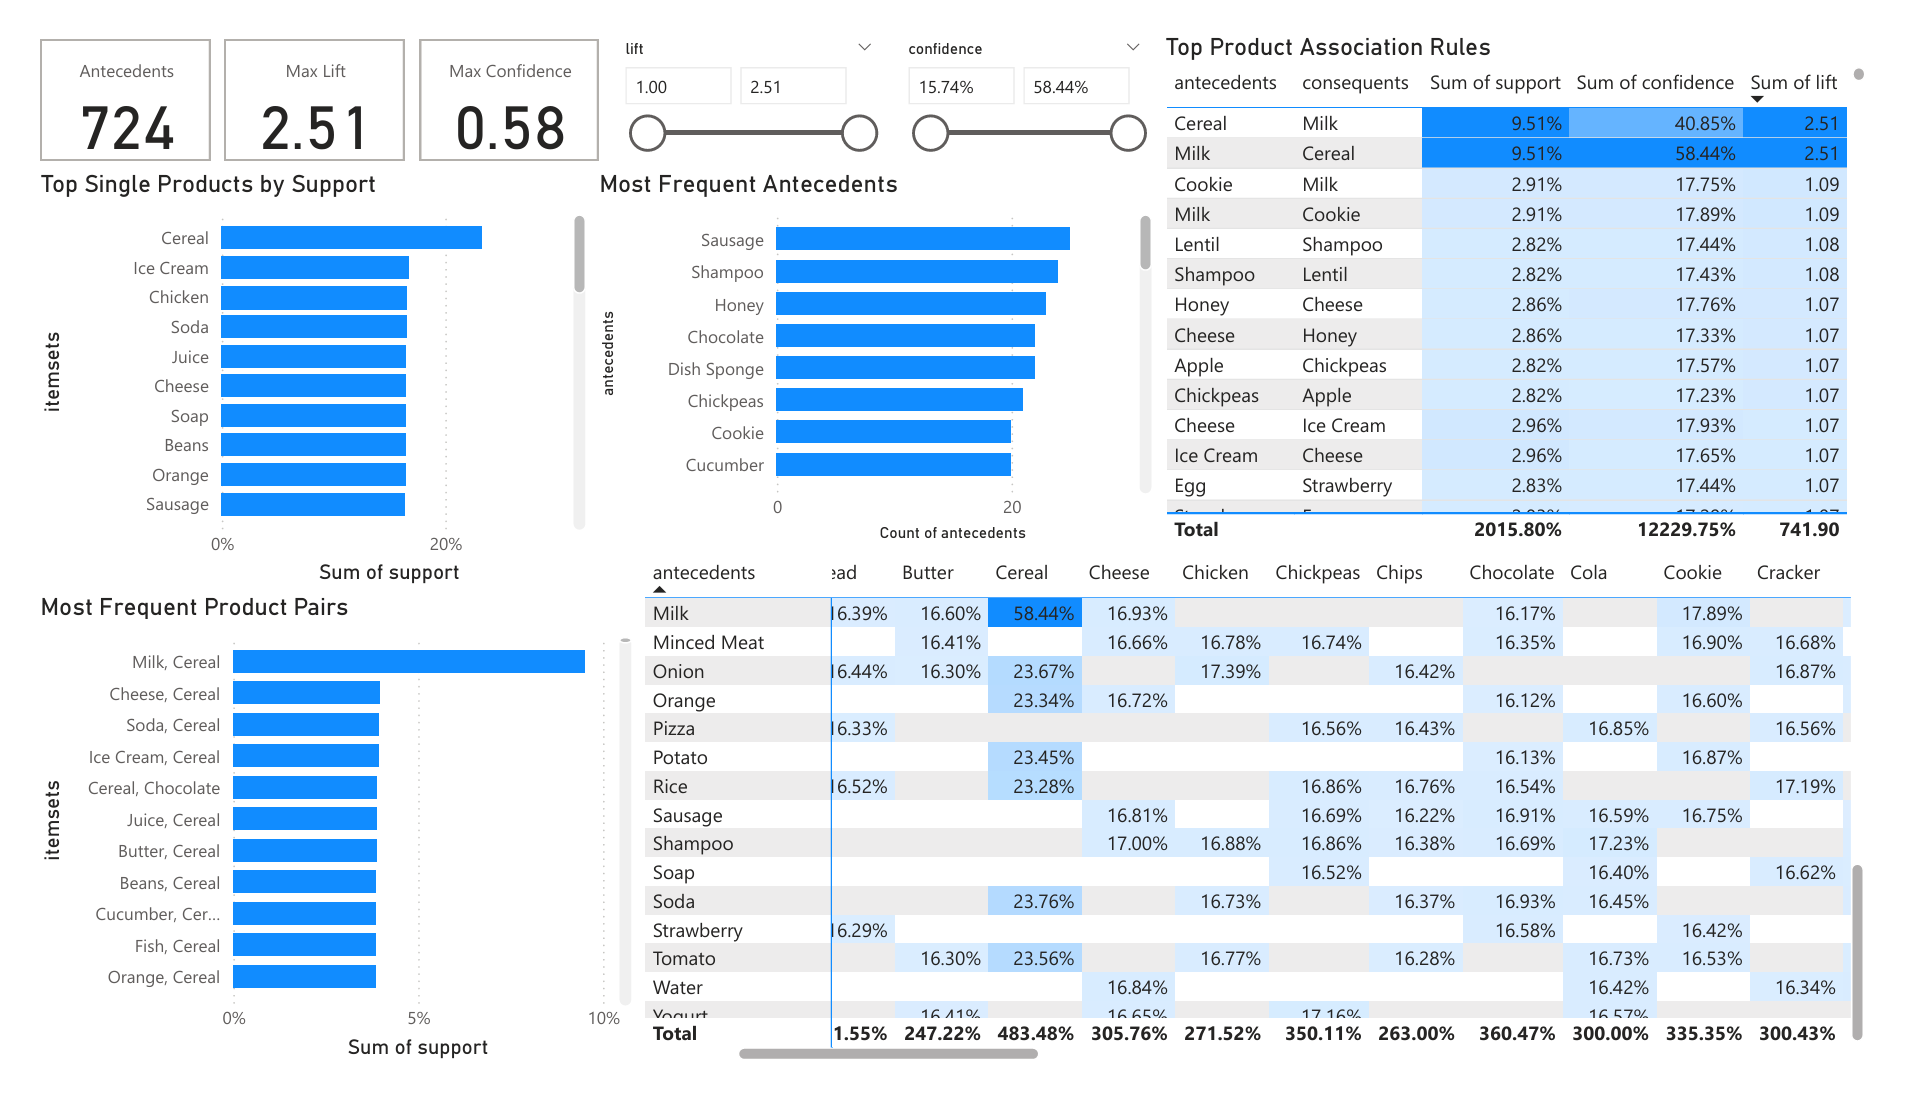

Layout of this report page (visuals, bound fields, positions):
{"tool":"powerbi","page":{"name":"Market Basket Analysis Dashboard","canvas":[1280,720],"ordinal":0},"visuals":[{"type":"tableEx","title":"Top Product Association Rules","fields":{"Values":["MarketBasketRules.antecedents","MarketBasketRules.consequents","Sum(MarketBasketRules.support)","Sum(MarketBasketRules.confidence)","Sum(MarketBasketRules.lift)","select"]},"box":[782.9,0,497.5,360.1],"z":0},{"type":"barChart","title":"Most Frequent Antecedents","fields":{"Category":["MarketBasketRules.antecedents"],"Y":["CountNonNull(MarketBasketRules.antecedents)"]},"box":[389.5,94.7,393.5,265.4],"z":1000},{"type":"slicer","fields":{"Values":["MarketBasketRules.confidence"]},"box":[596.2,0,186.7,94.7],"z":2000},{"type":"slicer","fields":{"Values":["MarketBasketRules.lift"]},"box":[398.8,0,197.4,94.7],"z":3000},{"type":"cardVisual","title":"Total Rules","fields":{"Data":["CountNonNull(MarketBasketRules.antecedents)"]},"box":[0,0,128,94.7],"z":4000},{"type":"cardVisual","title":"Max Lift","fields":{"Data":["MarketBasketRules.Max Lift"]},"box":[128.5,0,135.7,94.8],"z":5000},{"type":"cardVisual","title":"Max Confidence","fields":{"Data":["MarketBasketRules.Max Confidence"]},"box":[264.1,0,134.7,94.7],"z":6000},{"type":"pivotTable","fields":{"Rows":["MarketBasketRules.antecedents"],"Columns":["MarketBasketRules.consequents"],"Values":["Sum(MarketBasketRules.confidence)"]},"box":[421.5,360.1,857.6,360.1],"z":7000},{"type":"barChart","title":"Top Single Products by Support","fields":{"Category":["frequent_itemsets_clean.itemsets"],"Y":["Sum(frequent_itemsets_clean.support)"]},"box":[0,94.7,389.5,294.8],"z":7001},{"type":"barChart","title":"Most Frequent Product Pairs","fields":{"Category":["frequent_itemsets_clean.itemsets"],"Y":["Sum(frequent_itemsets_clean.support)"]},"box":[0,389.5,421.5,330.8],"z":7002}]}

Visuals, with their boxes in screenshot pixels (x1, y1, x2, y2), scaled from the page's 1280x720 canvas onto the 1907x1102 screenshot:
"Top Product Association Rules" tableEx: <bbox>1166, 0, 1906, 551</bbox>
"Most Frequent Antecedents" barChart: <bbox>580, 145, 1167, 551</bbox>
slicer - MarketBasketRules.confidence: <bbox>888, 0, 1166, 145</bbox>
slicer - MarketBasketRules.lift: <bbox>594, 0, 888, 145</bbox>
"Total Rules" cardVisual: <bbox>0, 0, 191, 145</bbox>
"Max Lift" cardVisual: <bbox>191, 0, 394, 145</bbox>
"Max Confidence" cardVisual: <bbox>393, 0, 594, 145</bbox>
pivotTable - MarketBasketRules.antecedents x MarketBasketRules.consequents: <bbox>628, 551, 1906, 1101</bbox>
"Top Single Products by Support" barChart: <bbox>0, 145, 580, 596</bbox>
"Most Frequent Product Pairs" barChart: <bbox>0, 596, 628, 1101</bbox>
